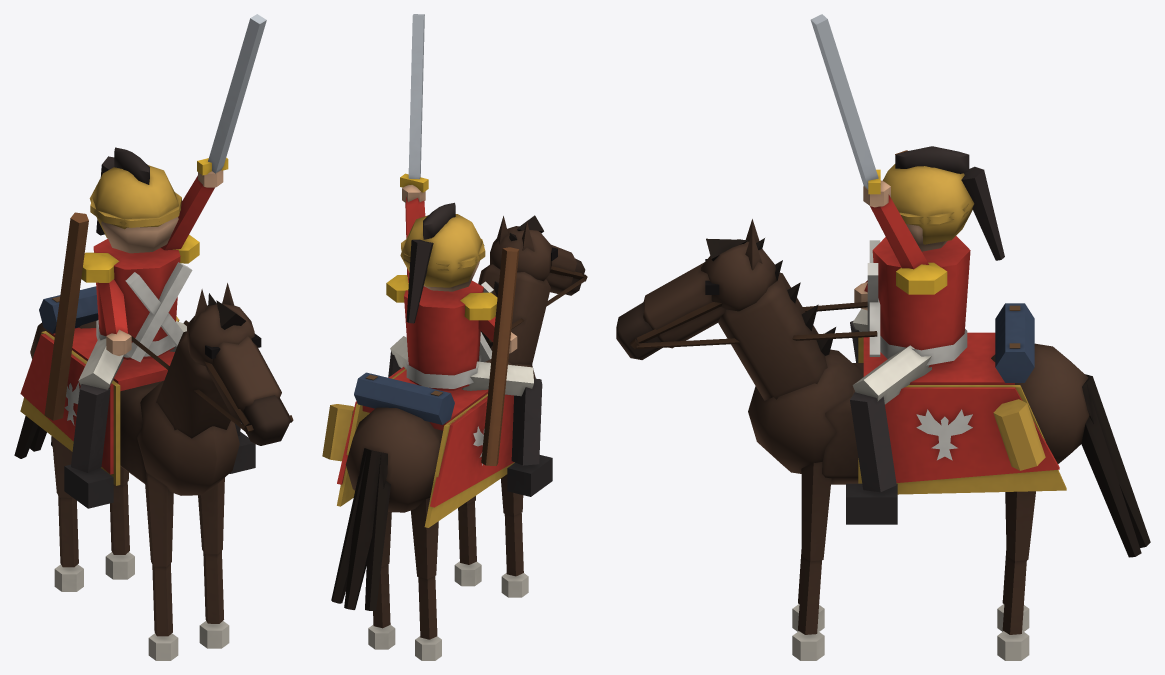
The model's file is assault_dl4_red.glb.
The picture shows the model from 3 angles, left to right: view 1: azimuth 30°, elevation 25°; view 2: azimuth 150°, elevation 25°; view 3: azimuth 270°, elevation 25°; orthographic projection. The views are drawn at different scales.
Visible parts, largest first — view 1: assault_dl4_red; view 2: assault_dl4_red; view 3: assault_dl4_red.
Boxes of the visible parts, x1,y1,x2,y2 form: assault_dl4_red: (14,14,293,660); assault_dl4_red: (322,14,587,660); assault_dl4_red: (616,14,1150,660).
Bounding box in the file's own units: 0.2399 × 0.8222 × 0.6004.
1 material, 1 textured.
